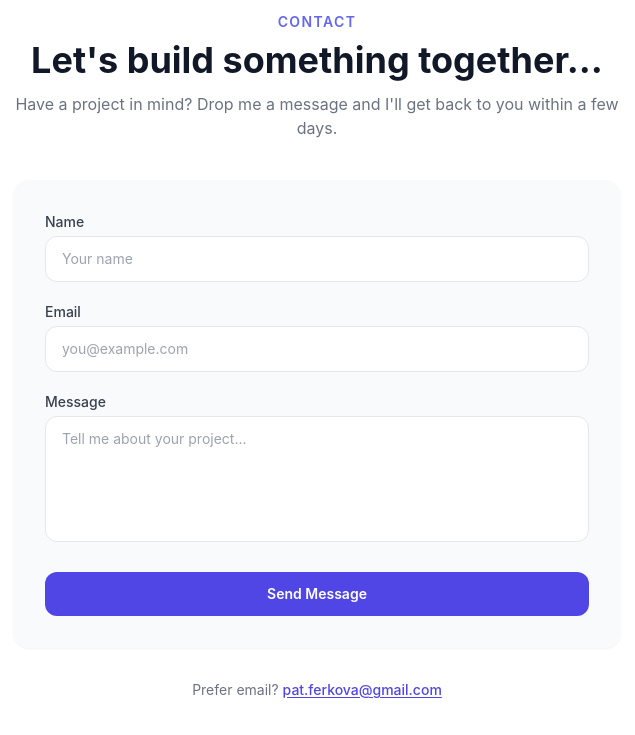
Test: ContactSection › shows inline error for empty message without clearing other fields
The image size is (635, 735).
Type "Alex" into the field labelled "Name".
click(317, 259); type("Alex")  # box [45, 236, 589, 282]
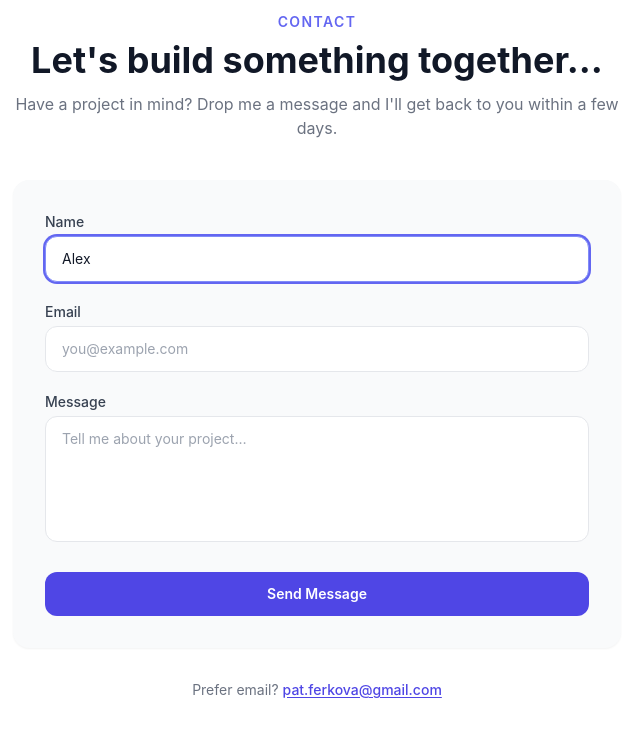
Type "alex@example.com" into the field labelled "Email".
click(317, 349); type("alex@example.com")  # box [45, 326, 589, 372]
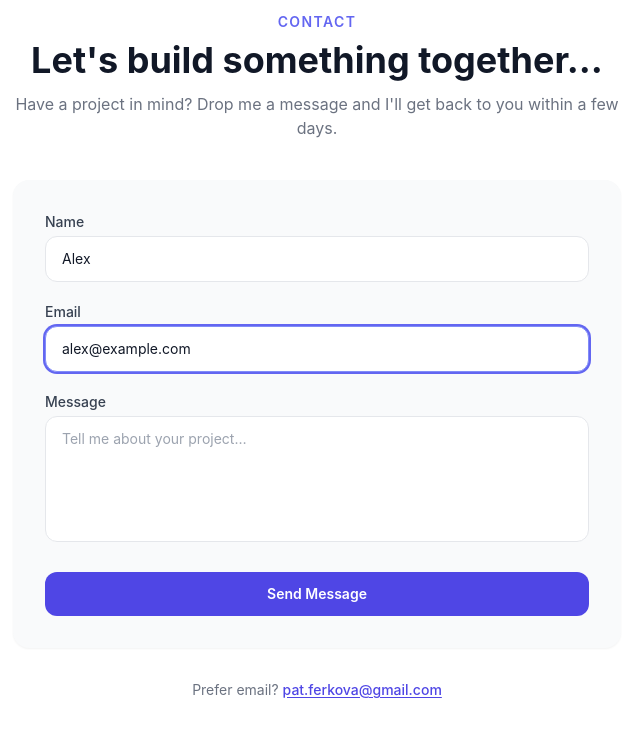
Click the button "Send Message".
click(317, 594)  # box [45, 572, 589, 616]
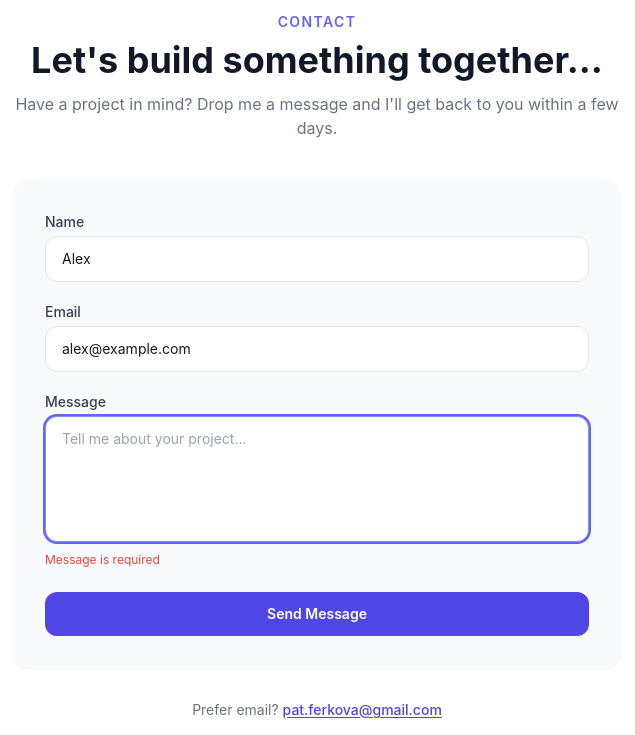
Check: the text "Message is required" is shown, box [45, 552, 160, 567]
